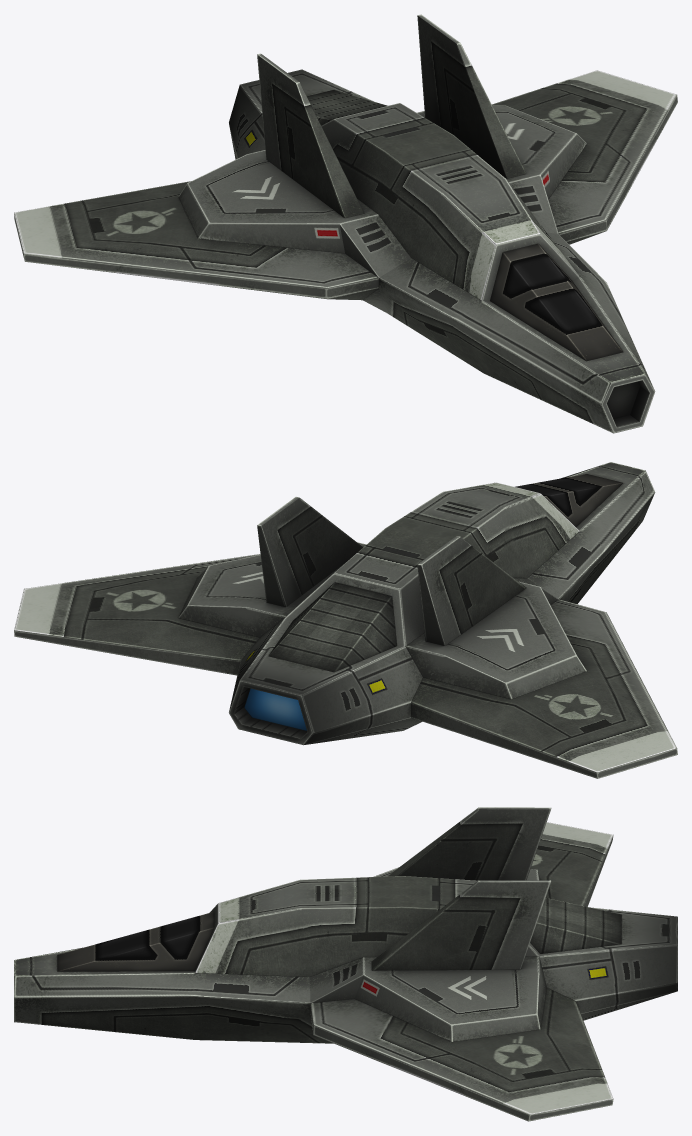
Rendered from space_frigate_6_final.obj.
The picture shows the model from 3 angles, top to bottom: view 1: azimuth 30°, elevation 25°; view 2: azimuth 150°, elevation 25°; view 3: azimuth 270°, elevation 25°; orthographic projection. The views are drawn at different scales.
Visible parts, largest first — view 1: space_frigate_6; view 2: space_frigate_6; view 3: space_frigate_6.
Boxes of the visible parts, x1=… form: space_frigate_6: x1=14, y1=14, x2=677, y2=433; space_frigate_6: x1=14, y1=462, x2=677, y2=778; space_frigate_6: x1=14, y1=807, x2=677, y2=1121.
Bounding box in the file's own units: 10.74 × 2.94 × 10.18.
Materials: 1 (1 with a texture image).
